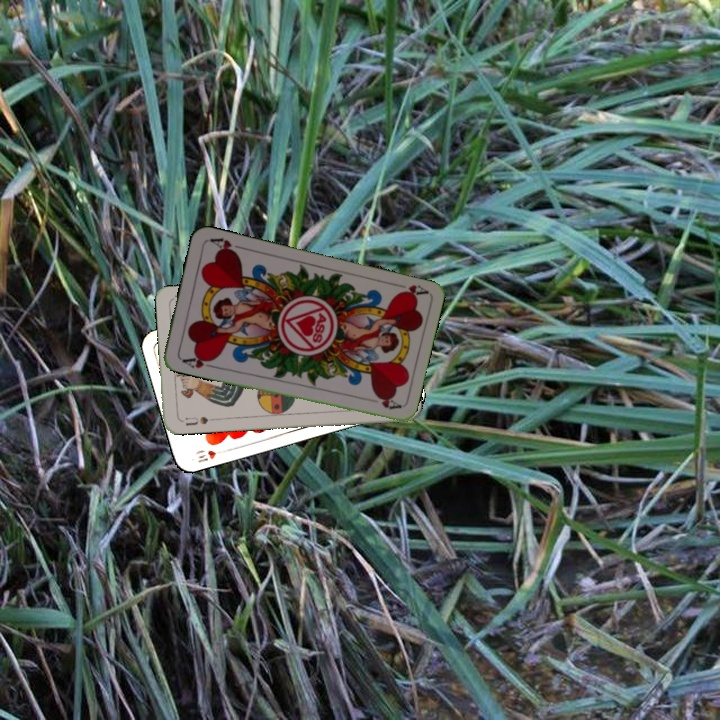H10: (190, 446, 229, 465)
HA: (389, 279, 429, 300), (177, 351, 218, 371)
SU: (177, 412, 217, 428)
